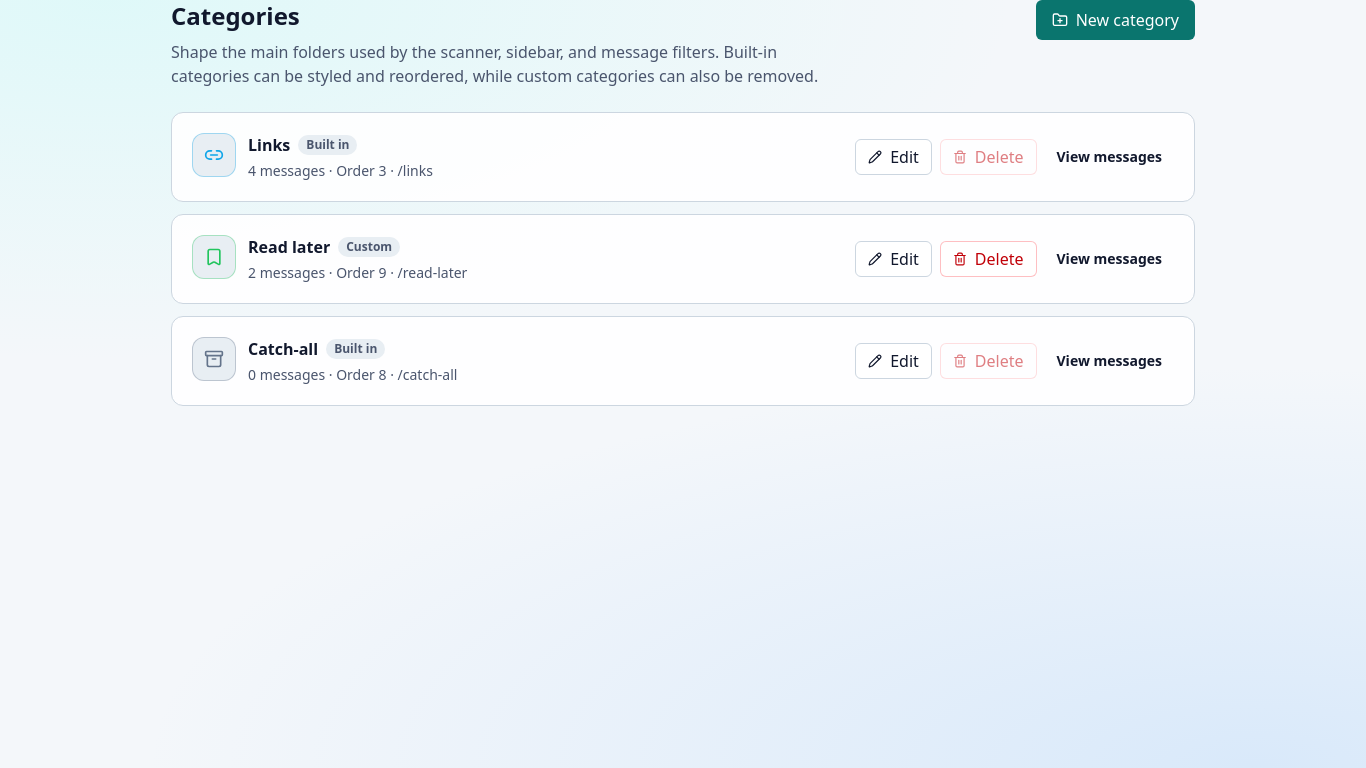
Test: CategoriesPage › creates a category from the dedicated dialog
Click the button "New category" at (1115, 20), box [1036,0,1195,40]
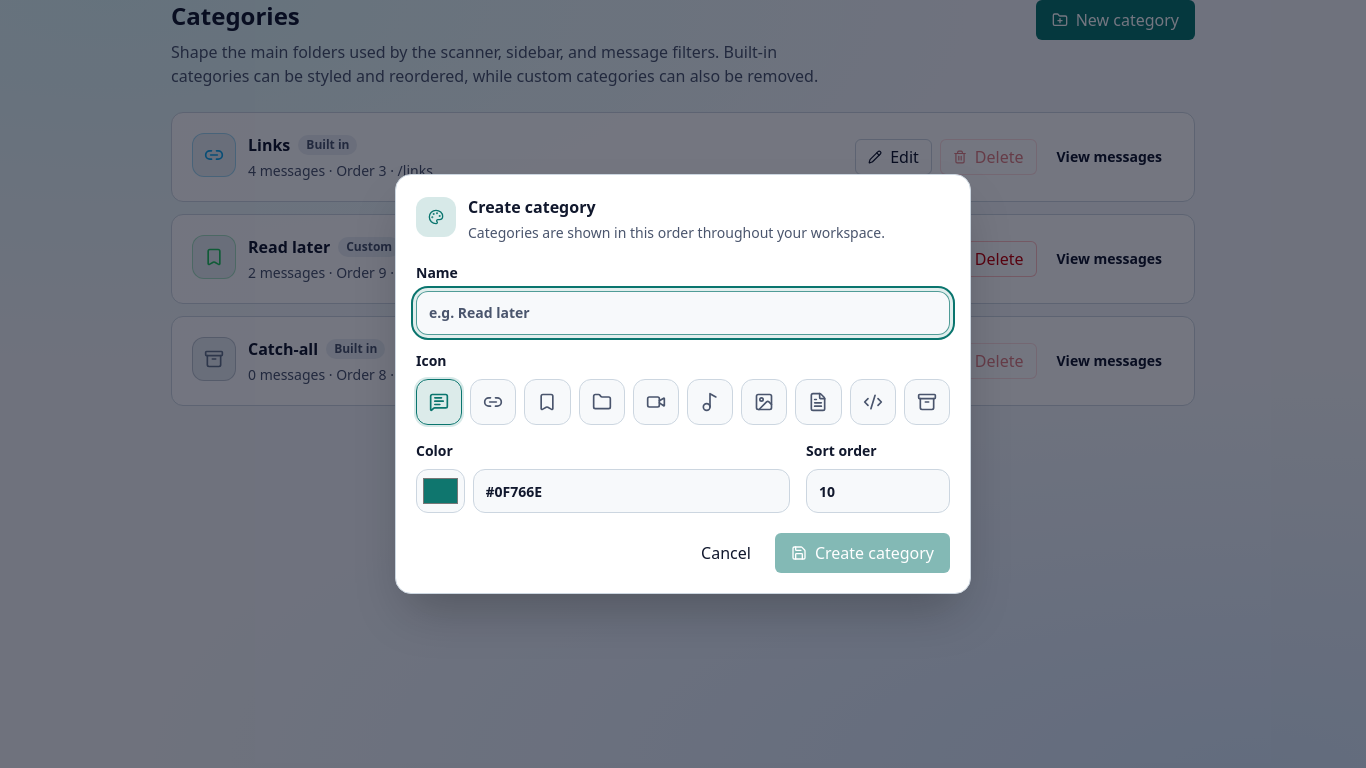
Type "Research" into the field labelled "Name" at (683, 313), box [416,291,950,335]
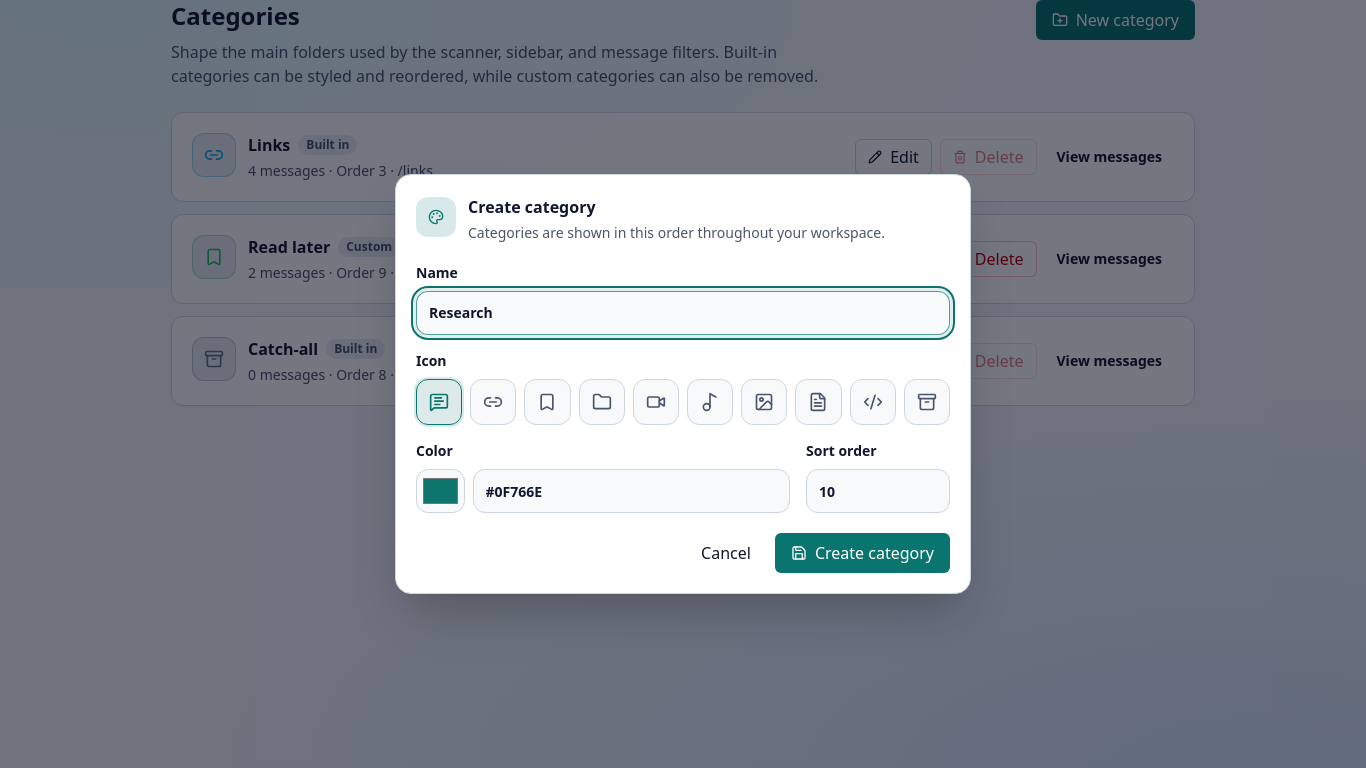
Click the button "Create category" at (862, 553), box [775,533,950,573]
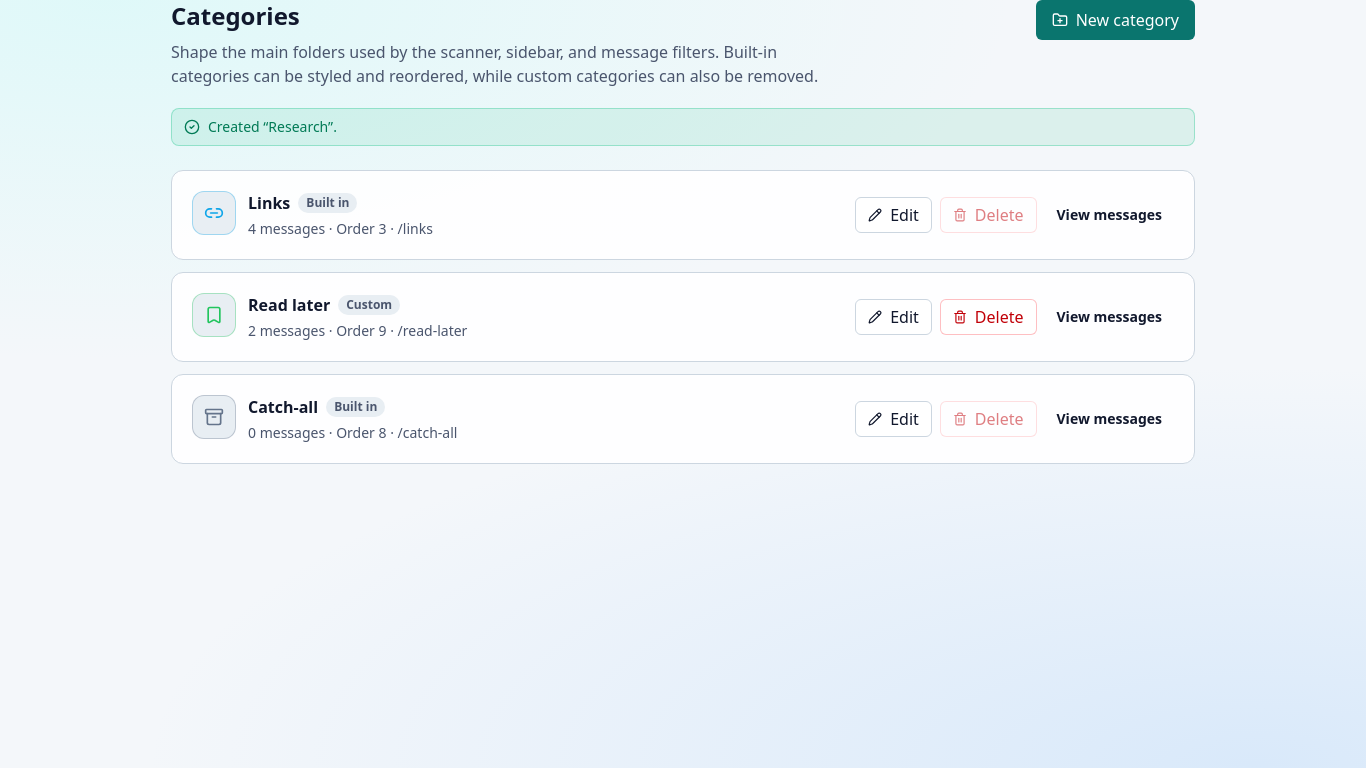
Expected: the text "Created “Research”." is shown, [208,117,337,137]
